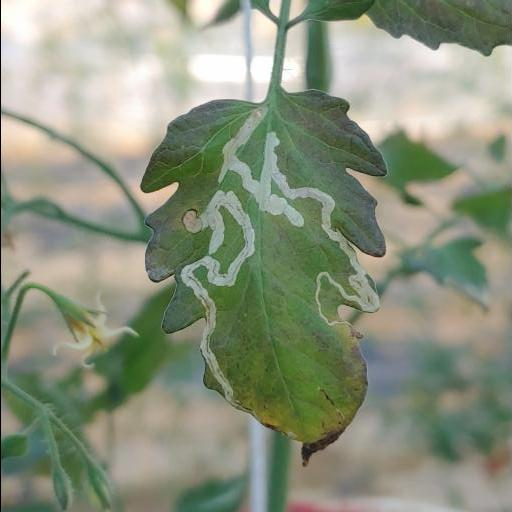Leaf Miner: (137, 85, 389, 471)
